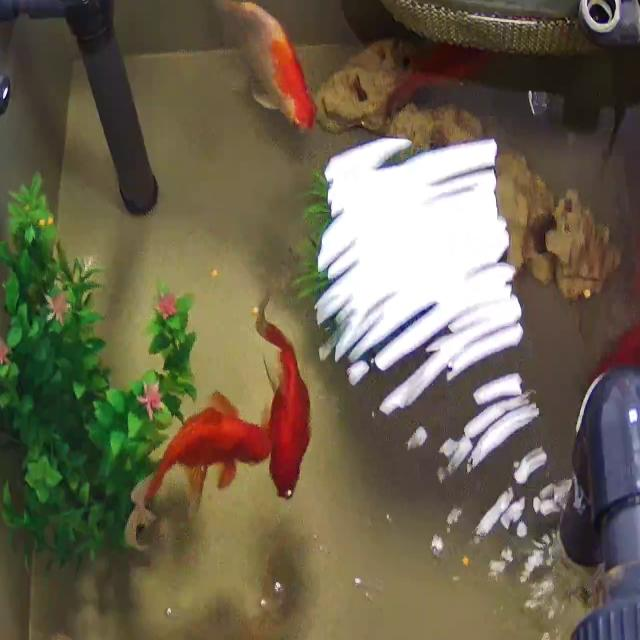fish: (129, 393, 281, 517), (194, 0, 313, 135), (248, 285, 315, 500), (589, 296, 640, 392)
